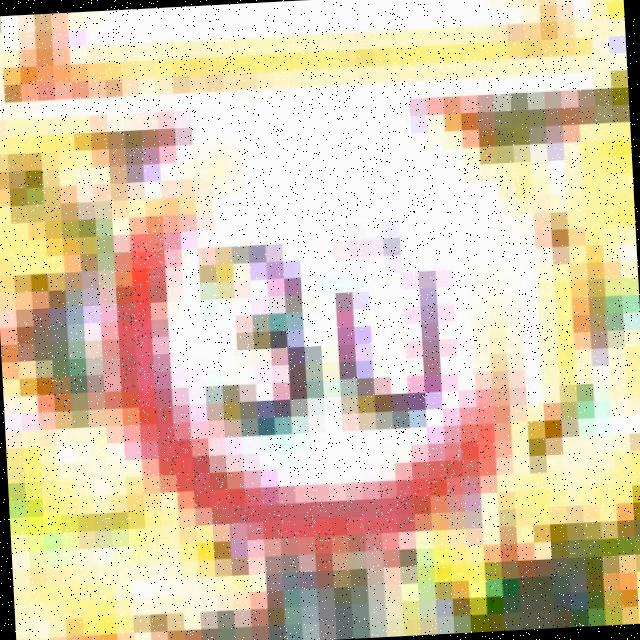Ograniczenie predkosci do 30: (96, 89, 556, 566)
